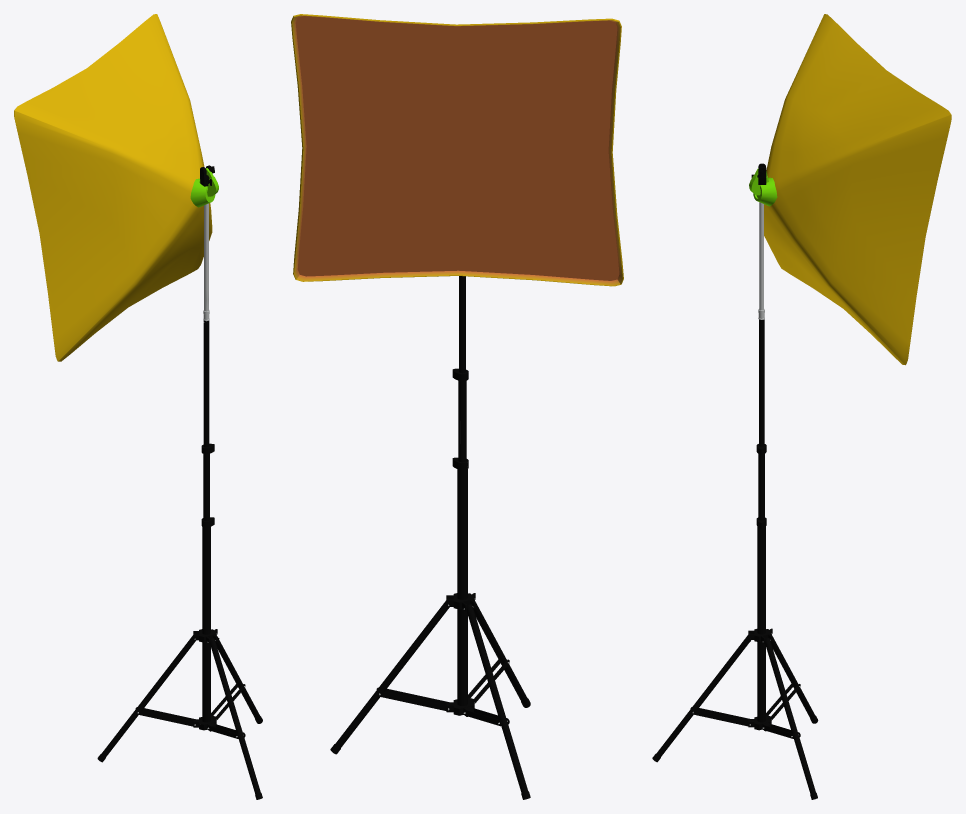
File: faretto_dx.obj
3 views of the same model, side by side, from view 1: azimuth 30°, elevation 25°; view 2: azimuth 150°, elevation 25°; view 3: azimuth 270°, elevation 25° (orthographic). The views are drawn at different scales.
Parts seen in each view (by area): view 1: #LMP0001_Lightbox.001, #LMP0001_Bottom, #LMP0001_Top, #LMP0001_Middle; view 2: #LMP0001_Lightbox.001, #LMP0001_Bottom, #LMP0001_Middle, #LMP0001_Top; view 3: #LMP0001_Lightbox.001, #LMP0001_Bottom, #LMP0001_Top, #LMP0001_Middle.
Part boxes in pixels (<box>): #LMP0001_Lightbox.001: <box>14,14,218,361</box>; #LMP0001_Bottom: <box>97,517,262,799</box>; #LMP0001_Top: <box>203,203,209,447</box>; #LMP0001_Middle: <box>201,443,214,520</box>; #LMP0001_Lightbox.001: <box>291,14,623,286</box>; #LMP0001_Bottom: <box>330,457,530,799</box>; #LMP0001_Middle: <box>452,368,468,462</box>; #LMP0001_Top: <box>459,276,465,373</box>; #LMP0001_Lightbox.001: <box>749,14,951,365</box>; #LMP0001_Bottom: <box>652,517,818,799</box>; #LMP0001_Top: <box>758,202,764,446</box>; #LMP0001_Middle: <box>756,444,766,520</box>.
Size of the model in its own units: 0.9578 by 2.51 by 1.01.
